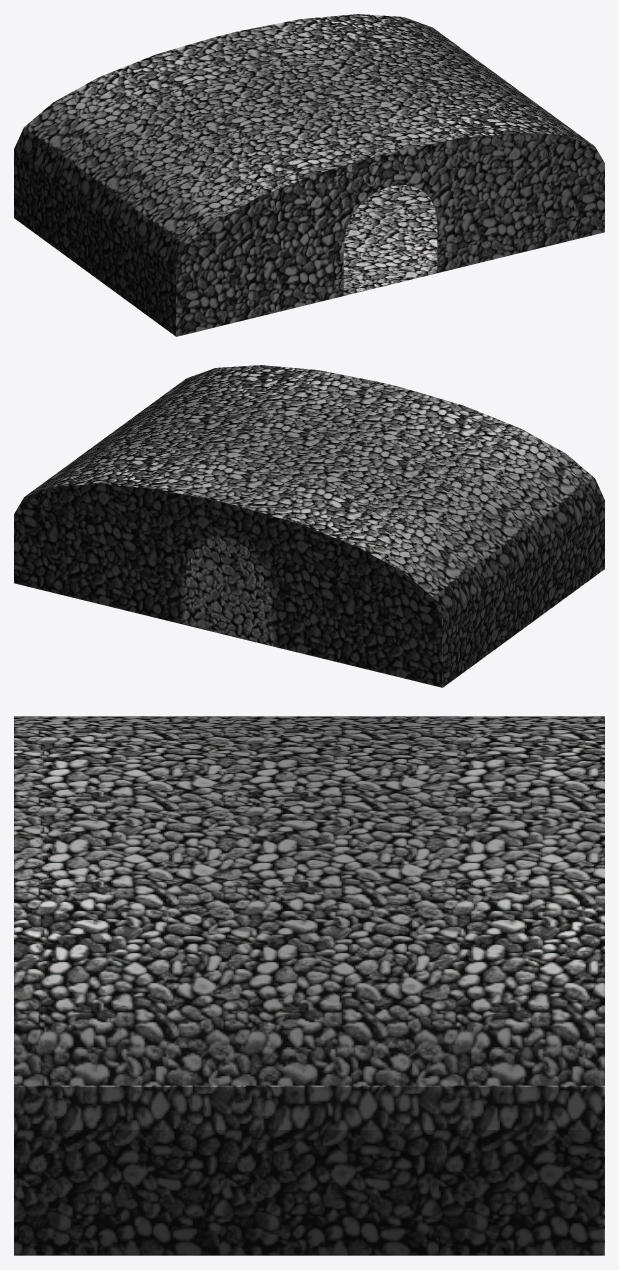
Rendered from Room.fbx.
The picture shows the model from 3 angles, top to bottom: view 1: azimuth 30°, elevation 25°; view 2: azimuth 150°, elevation 25°; view 3: azimuth 270°, elevation 25°; orthographic projection. The views are drawn at different scales.
Visible parts, largest first — view 1: Room1; view 2: Room1; view 3: Room1.
Boxes of the visible parts, x1,y1,x2,y2 form: Room1: [14, 14, 604, 336]; Room1: [14, 365, 604, 687]; Room1: [14, 716, 604, 1255].
Size of the model in its own units: 915 by 269 by 600.
